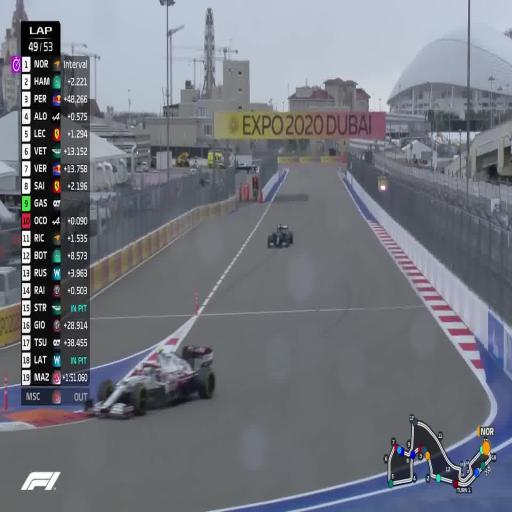f1_car: (84, 346, 215, 417), (267, 224, 293, 247)
